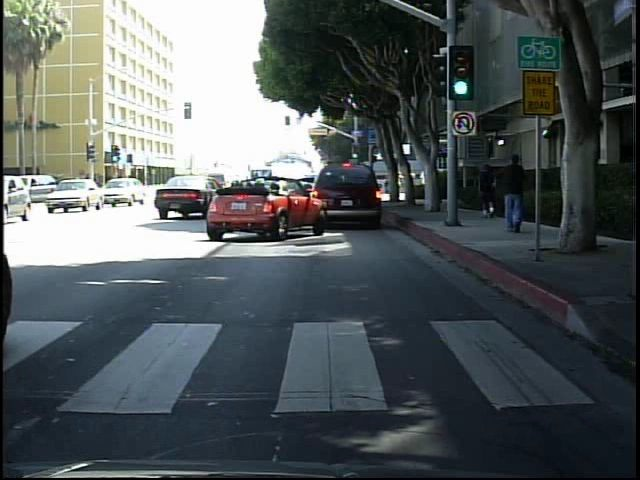person: (499, 147, 532, 236), (476, 157, 500, 223)
